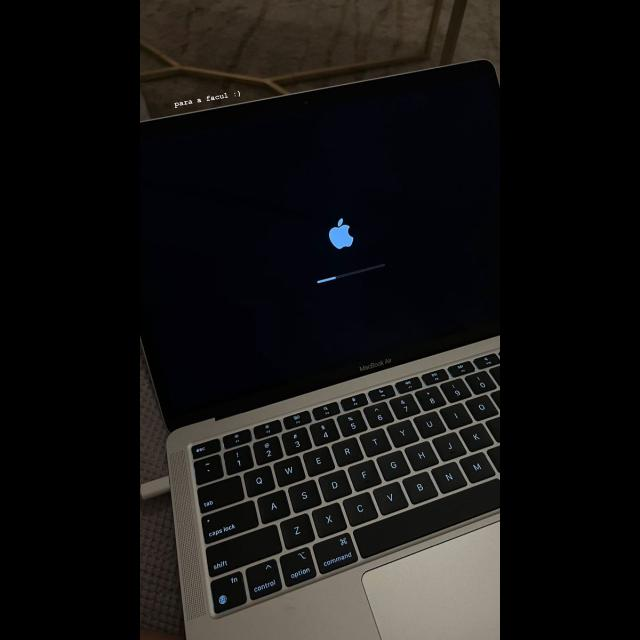laptop: (157, 47, 496, 638)
